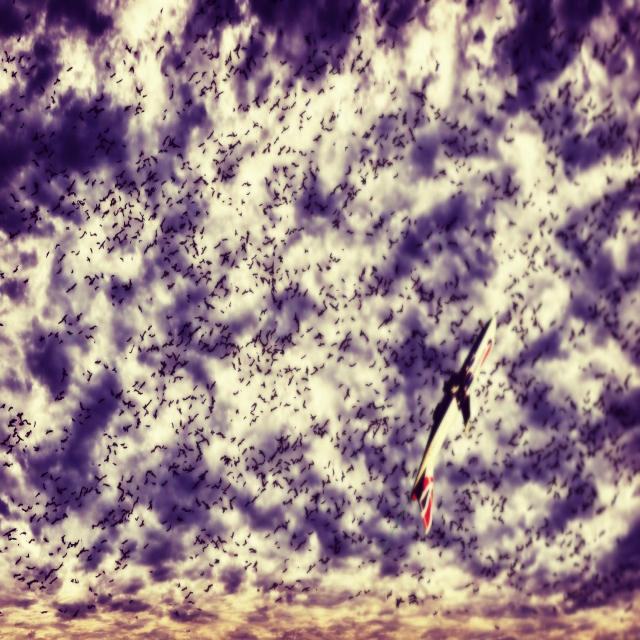airplane: (409, 314, 498, 536)
